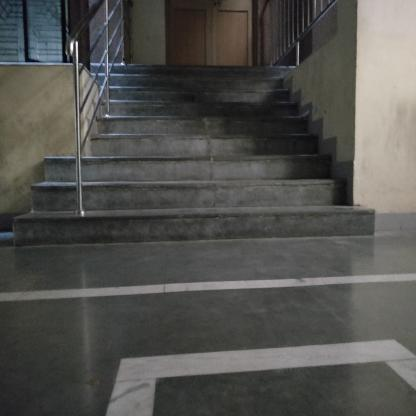stairs: (104, 118, 306, 249)
